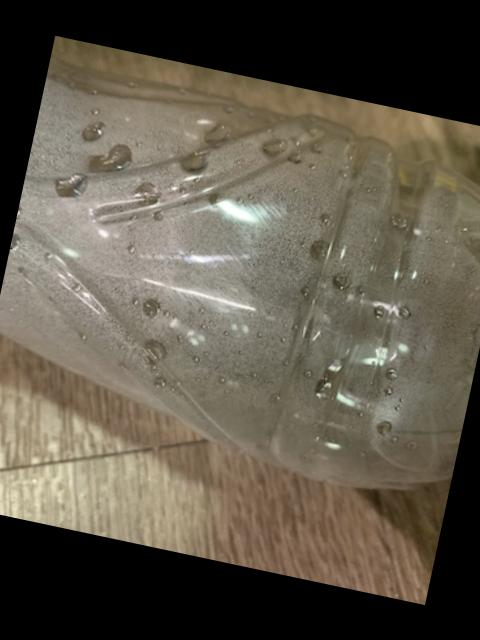plastic: (0, 57, 480, 485)
